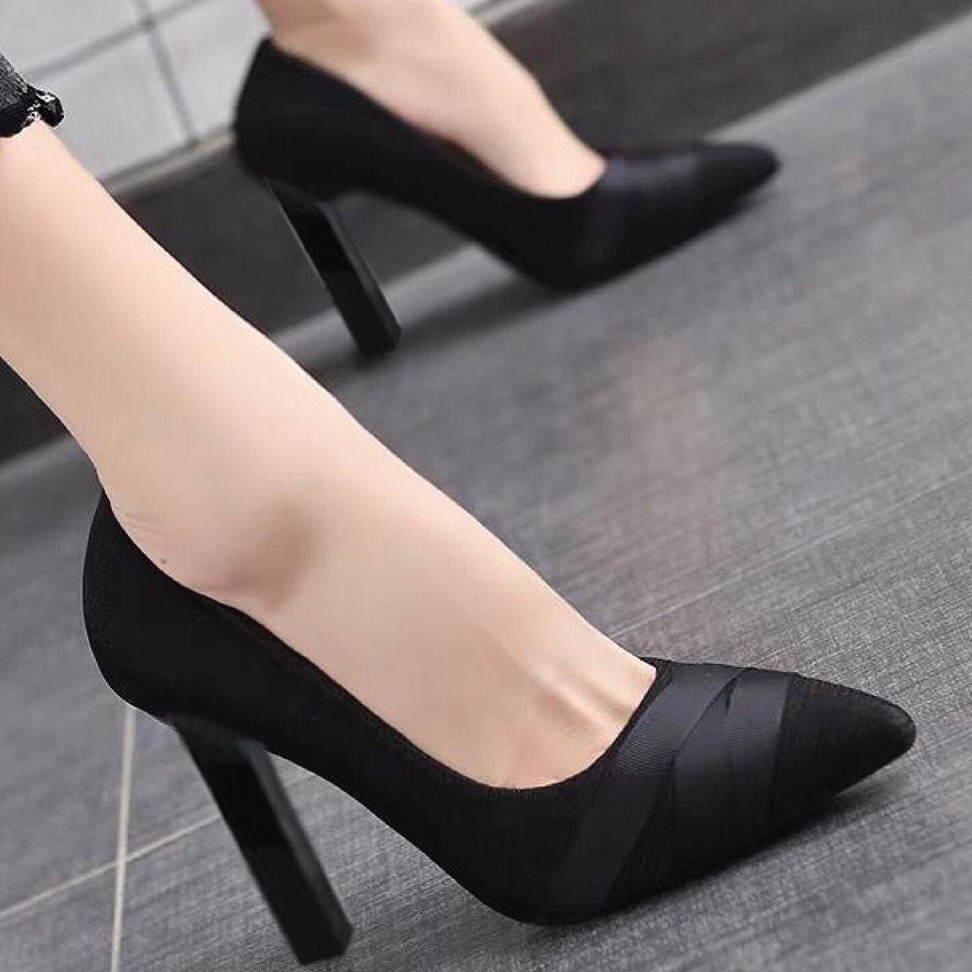high heels: (82, 483, 919, 966), (226, 33, 787, 355)
